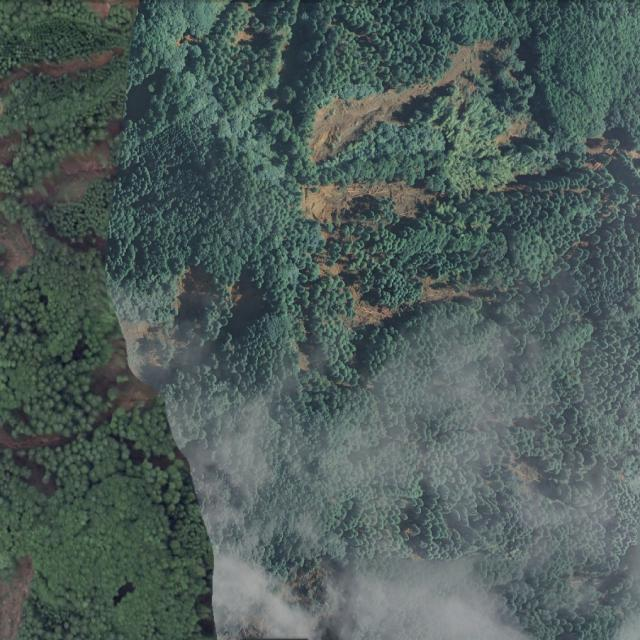landslide: (310, 43, 493, 163), (302, 181, 439, 226), (354, 293, 393, 323)
